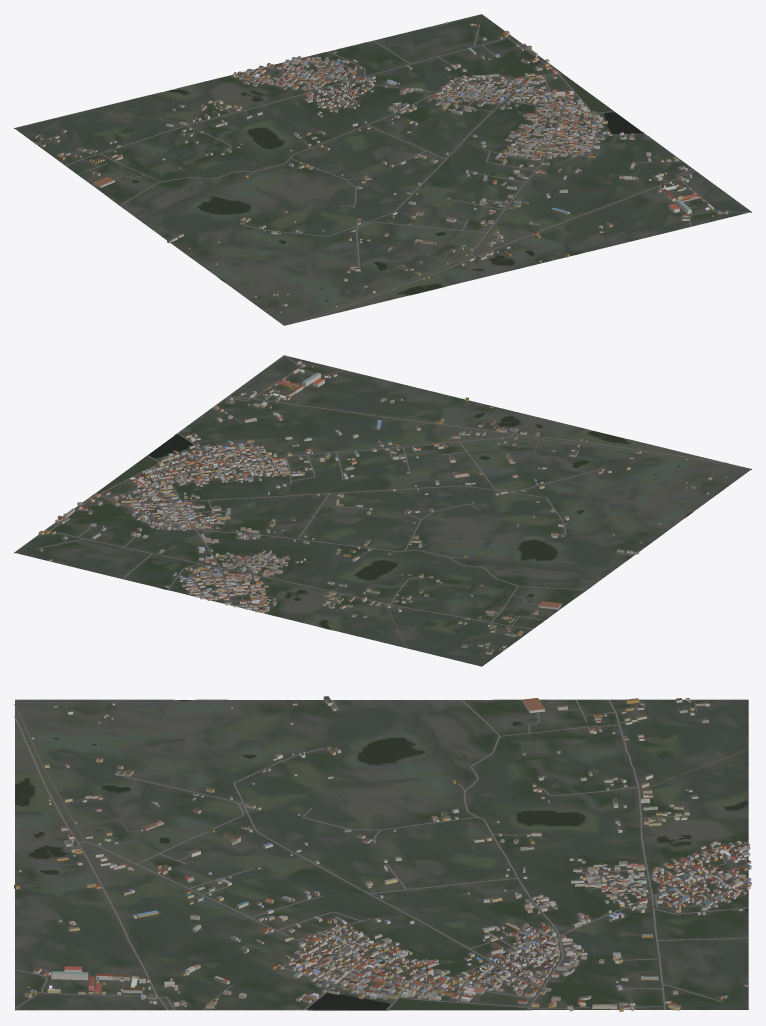
The picture shows the model from 3 angles, top to bottom: view 1: azimuth 30°, elevation 25°; view 2: azimuth 150°, elevation 25°; view 3: azimuth 270°, elevation 25°; orthographic projection. The views are drawn at different scales.
Visible parts, largest first — view 1: ground, buildings, roads, water; view 2: ground, buildings, roads, water; view 3: ground, buildings, roads, water.
Part boxes in pixels (box(x1,y1,x2,y2)): ground: box(14, 14, 751, 325); buildings: box(34, 22, 728, 312); roads: box(34, 24, 750, 324); water: box(132, 50, 642, 301); ground: box(14, 355, 751, 666); buildings: box(38, 361, 727, 654); roads: box(36, 355, 744, 652); water: box(96, 413, 690, 629); ground: box(15, 699, 748, 1010); buildings: box(14, 696, 751, 1011); roads: box(14, 699, 748, 1010); water: box(15, 700, 747, 1009).
Size of the model in its own units: 1415 by 15.23 by 1410.
